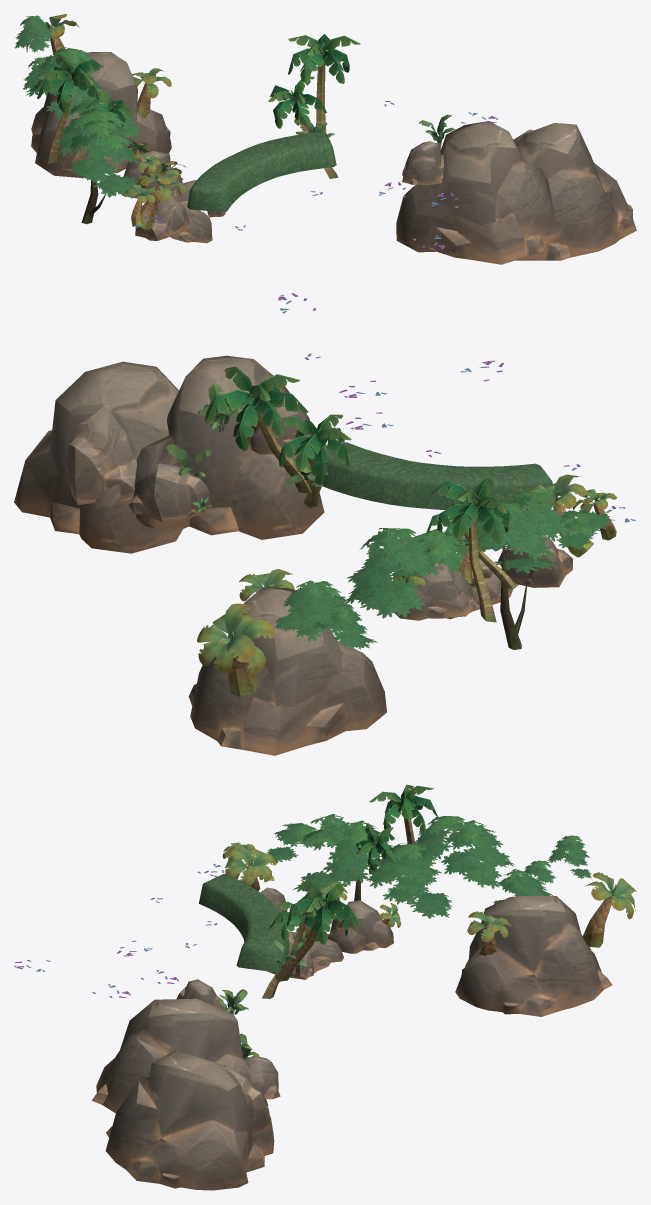
File: pref_sm_4v4pointbake_CSD_L02_lv1.fbx
3 views of the same model, one above another, from view 1: azimuth 30°, elevation 25°; view 2: azimuth 150°, elevation 25°; view 3: azimuth 270°, elevation 25° (orthographic). The views are drawn at different scales.
Parts seen in each view (by area): view 1: sm_4v4pointbake_CSD_L02_b_lv1, sm_4v4pointbake_CSD_L02_c_lv1, sm_4v4pointbake_CSD_L02_d_lv1, sm_4v4pointbake_CSD_L02_a_lv1; view 2: sm_4v4pointbake_CSD_L02_b_lv1, sm_4v4pointbake_CSD_L02_c_lv1, sm_4v4pointbake_CSD_L02_d_lv1, sm_4v4pointbake_CSD_L02_a_lv1; view 3: sm_4v4pointbake_CSD_L02_b_lv1, sm_4v4pointbake_CSD_L02_c_lv1, sm_4v4pointbake_CSD_L02_d_lv1.
Part boxes in pixels (x1,y1,x2,y2): sm_4v4pointbake_CSD_L02_b_lv1: (31,52,636,264); sm_4v4pointbake_CSD_L02_c_lv1: (14,14,455,230); sm_4v4pointbake_CSD_L02_d_lv1: (187,131,336,211); sm_4v4pointbake_CSD_L02_a_lv1: (135,101,497,250); sm_4v4pointbake_CSD_L02_b_lv1: (14,355,572,755); sm_4v4pointbake_CSD_L02_c_lv1: (166,366,616,697); sm_4v4pointbake_CSD_L02_d_lv1: (320,442,552,509); sm_4v4pointbake_CSD_L02_a_lv1: (278,293,636,522); sm_4v4pointbake_CSD_L02_b_lv1: (92,887,612,1190); sm_4v4pointbake_CSD_L02_c_lv1: (219,784,636,1060); sm_4v4pointbake_CSD_L02_d_lv1: (199,874,289,972).
Size of the model in its own units: 28.04 by 10.14 by 30.08.
